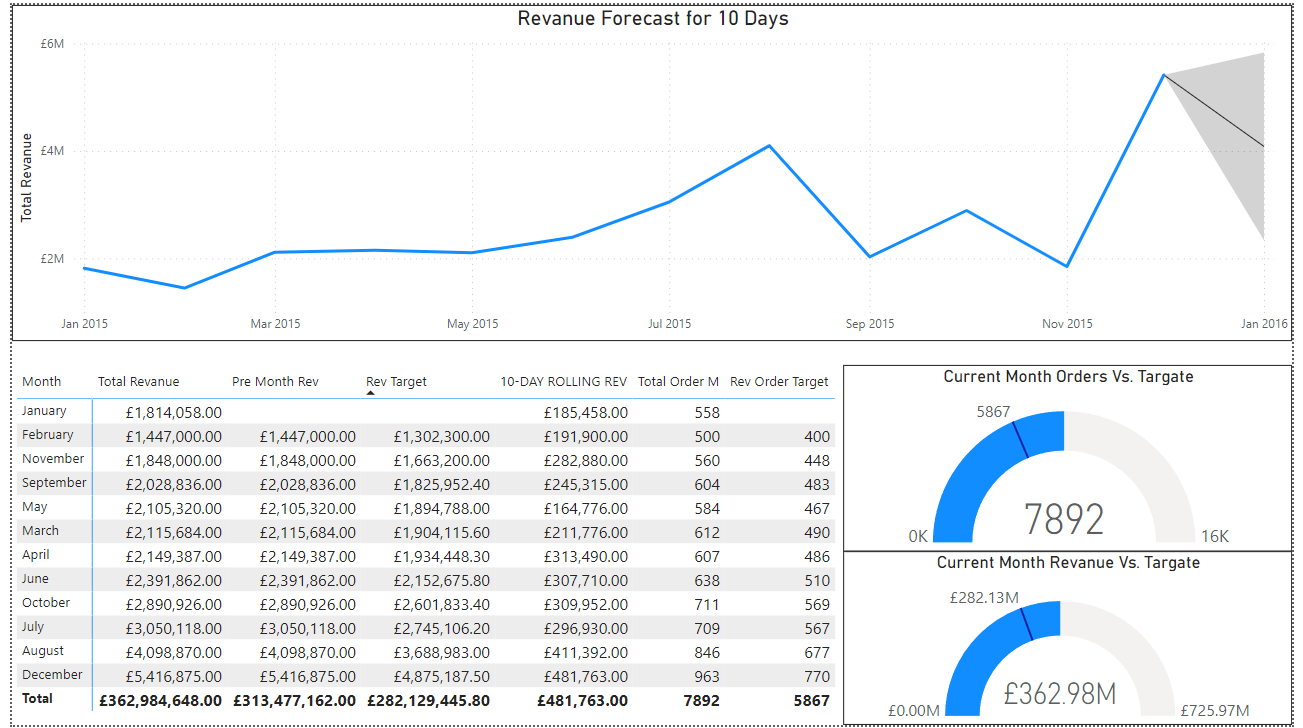

Layout of this report page (visuals, bound fields, positions):
{"tool":"powerbi","page":{"name":"Time Series","canvas":[1280,720],"ordinal":1},"visuals":[{"type":"pivotTable","fields":{"Values":["Order_Data.Total Revanue","Order_Data.Pre Month Rev","Order_Data.Rev Target","Order_Data.10-DAY ROLLING REV","Order_Data.Total Order M","Order_Data.Rev Order"],"Rows":["Order_Data.Start of the month.Variation.Date Hierarchy.Month"]},"box":[0,360,831.2,355],"z":0},{"type":"lineChart","title":"Revanue Forecast for 10 Days","fields":{"Y":["Order_Data.Total Revanue"],"Category":["Order_Data.Start of the month.Variation.Date Hierarchy.Year","Order_Data.Start of the month.Variation.Date Hierarchy.Quarter","Order_Data.Start of the month.Variation.Date Hierarchy.Month","Order_Data.Start of the month.Variation.Date Hierarchy.Day"]},"box":[0,0,1280,336.2],"z":1000},{"type":"gauge","title":"Current Month Orders Vs. Targate","fields":{"Y":["Order_Data.Total Order M"],"TargetValue":["Order_Data.Rev Order Target"]},"box":[831.2,360,448.8,186.2],"z":3000},{"type":"gauge","title":"Current Month Revanue Vs. Targate","fields":{"Y":["Order_Data.Total Revanue"],"TargetValue":["Order_Data.Rev Target"]},"box":[831.2,546.2,448.8,173.8],"z":4000}]}

Visuals, with their boxes in screenshot pixels (x1, y1, x2, y2), scaled from the page's 1280x720 canvas onto the 1303x728 screenshot:
pivotTable - Order_Data.Total Revanue x Order_Data.Pre Month Rev: 0,364,846,723
"Revanue Forecast for 10 Days" lineChart: 0,0,1302,340
"Current Month Orders Vs. Targate" gauge: 846,364,1302,552
"Current Month Revanue Vs. Targate" gauge: 846,552,1302,727
